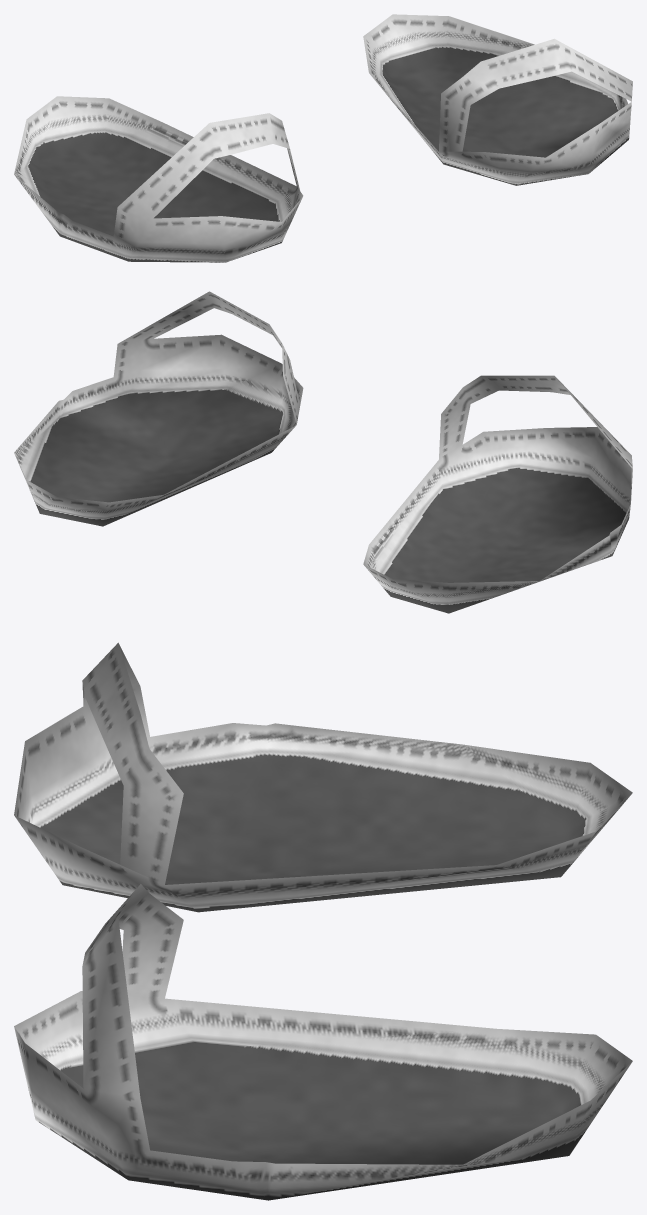
Rendered from Sandals.glb.
The picture shows the model from 3 angles, top to bottom: view 1: azimuth 30°, elevation 25°; view 2: azimuth 150°, elevation 25°; view 3: azimuth 270°, elevation 25°; orthographic projection. The views are drawn at different scales.
Visible parts, largest first — view 1: Sandals; view 2: Sandals; view 3: Sandals.
Boxes of the visible parts, x1,y1,x2,y2 form: Sandals: (14,14,632,262); Sandals: (14,291,632,613); Sandals: (14,642,632,1200).
Bounding box in the file's own units: 8.05 × 1.95 × 4.77.
1 material, 1 textured.
